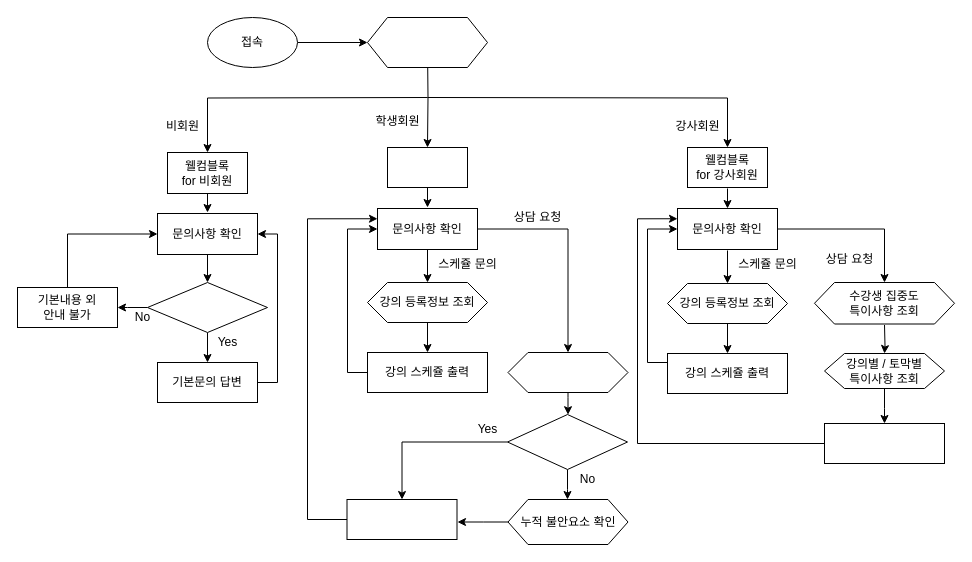
The diagram is 972 pixels wide and 562 high, and some of its shapes have lost their labels. Here are the shapes that lost their labels. From the top down, the centre of each, then its label:
[427,42]: 고객정보 조회
[427,167]: 웰컴블록 for 학생회원
[207,307]: 기본문의
[567,372]: 감정 정보 조회
[567,442]: 최근 강의 불안요소
[884,443]: 분석결과 출력
[401,519]: 상담멘트 출력
